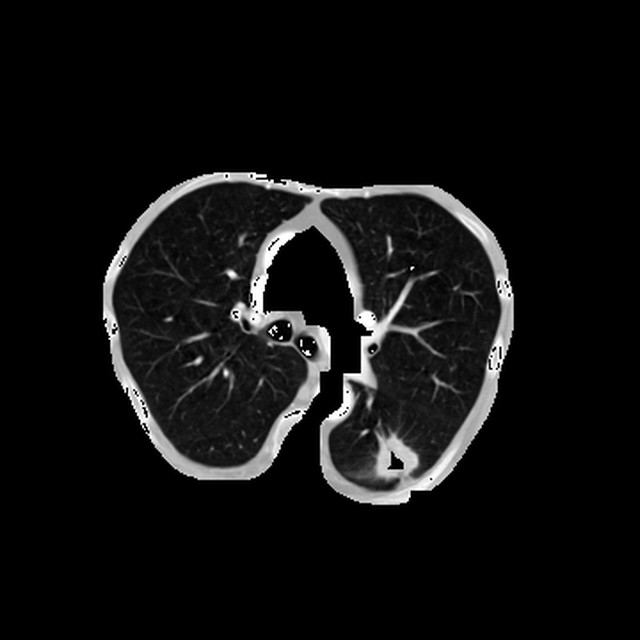PN: (373, 437, 416, 480)
